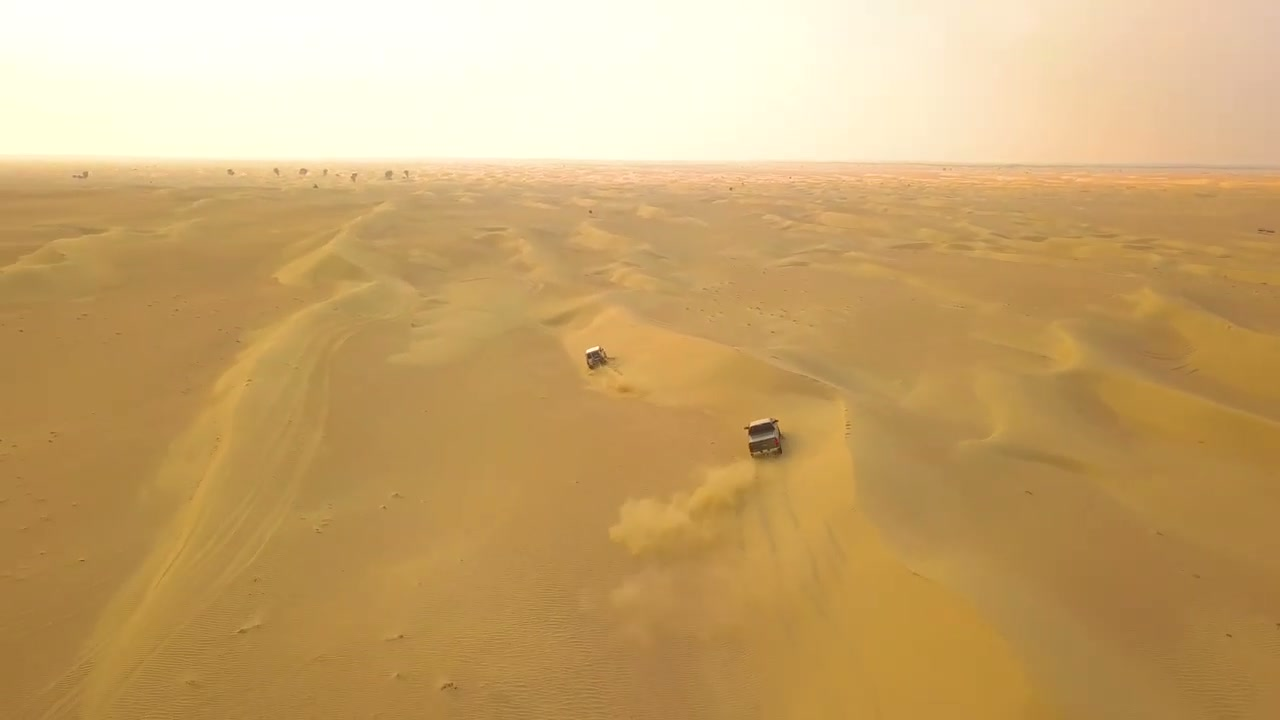vehicle_track: (22, 326, 371, 719)
